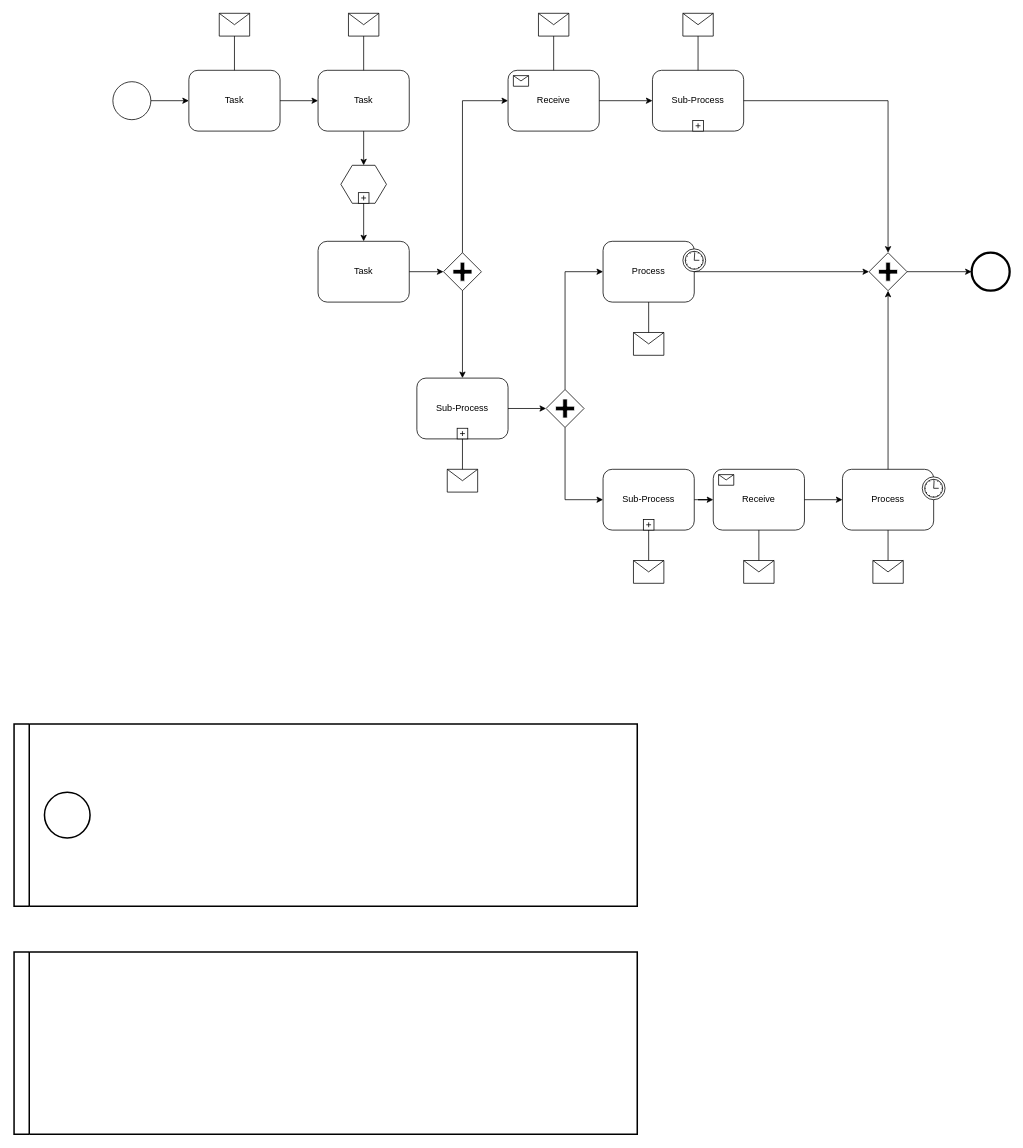
Some shapes in this 1023 by 1148 pixel diagram are drawn without their labels. The shapes that lost their labels are listed below. From the top down, each one's box as (x1, y1, x2, y2) in pixels, then its label:
(13, 723, 638, 907): Покупателей
(13, 951, 638, 1135): Администрация
